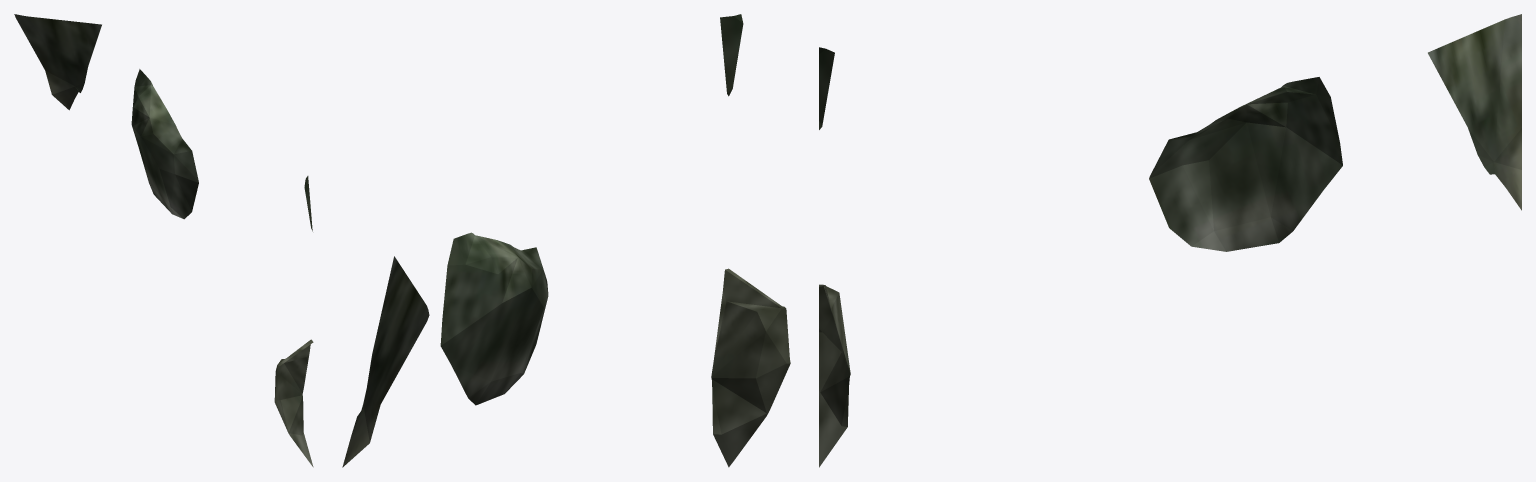
3 renders of one model, left to right at view 1: azimuth 30°, elevation 25°; view 2: azimuth 150°, elevation 25°; view 3: azimuth 270°, elevation 25°, orthographic. The views are drawn at different scales.
Size of the model in its own units: 0.3842 by 1.92 by 2.95.
Materials: 1 (1 with a texture image).
